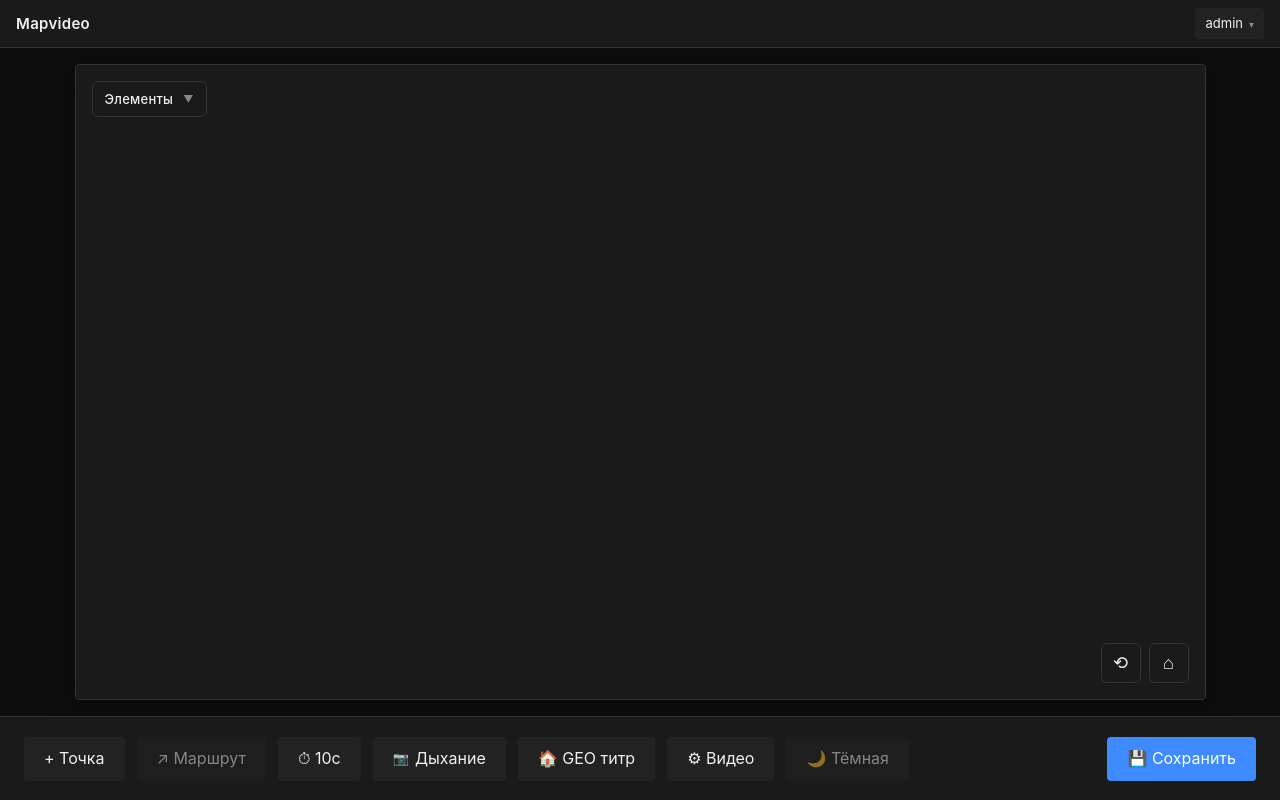
EditorPage › opens and closes the Add Point modal
The width and height of the screenshot is (1280, 800).
Click the button "+ Точка" at [74, 758], box [24,736,124,780]
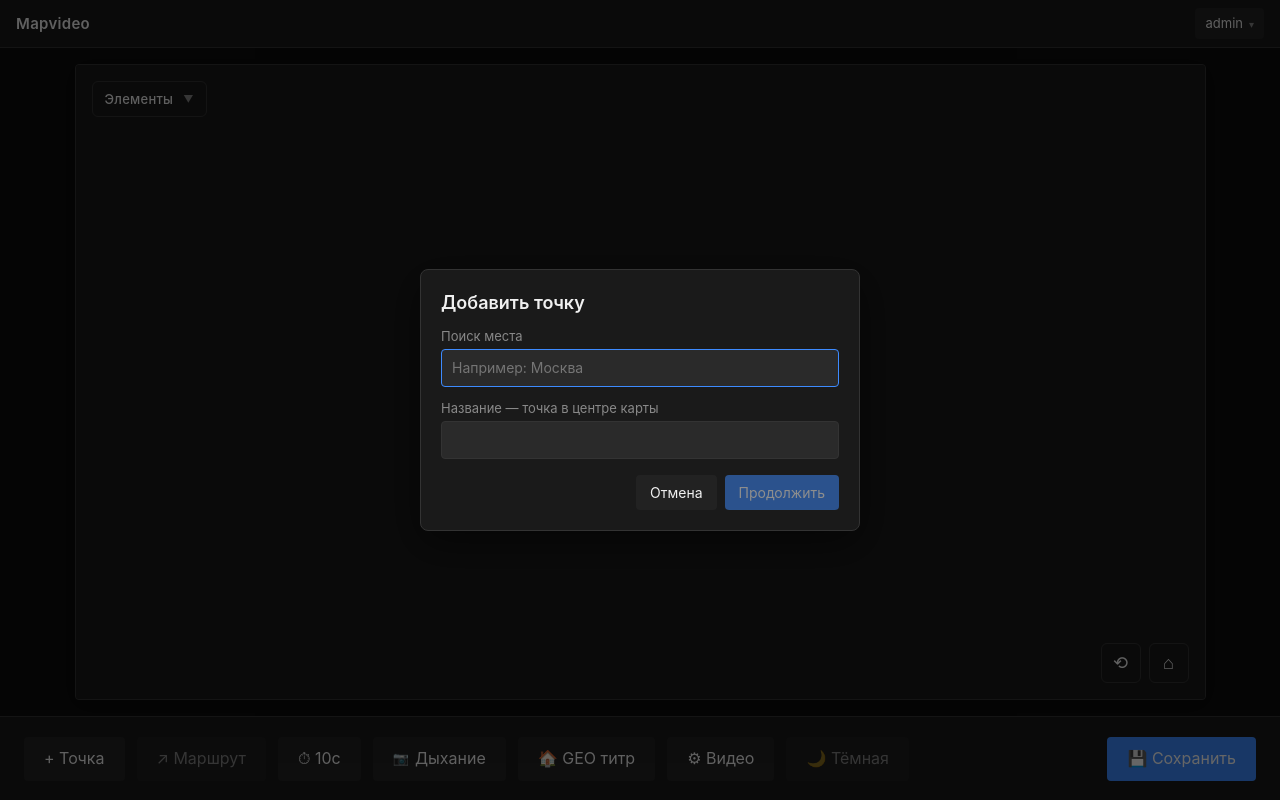
Expected: the dialog is shown, [420,269,860,531]
Expected: the heading "Добавить точку" is shown, [441,292,585,313]
Click the button "Отмена" at [676, 492], box [636,475,717,510]
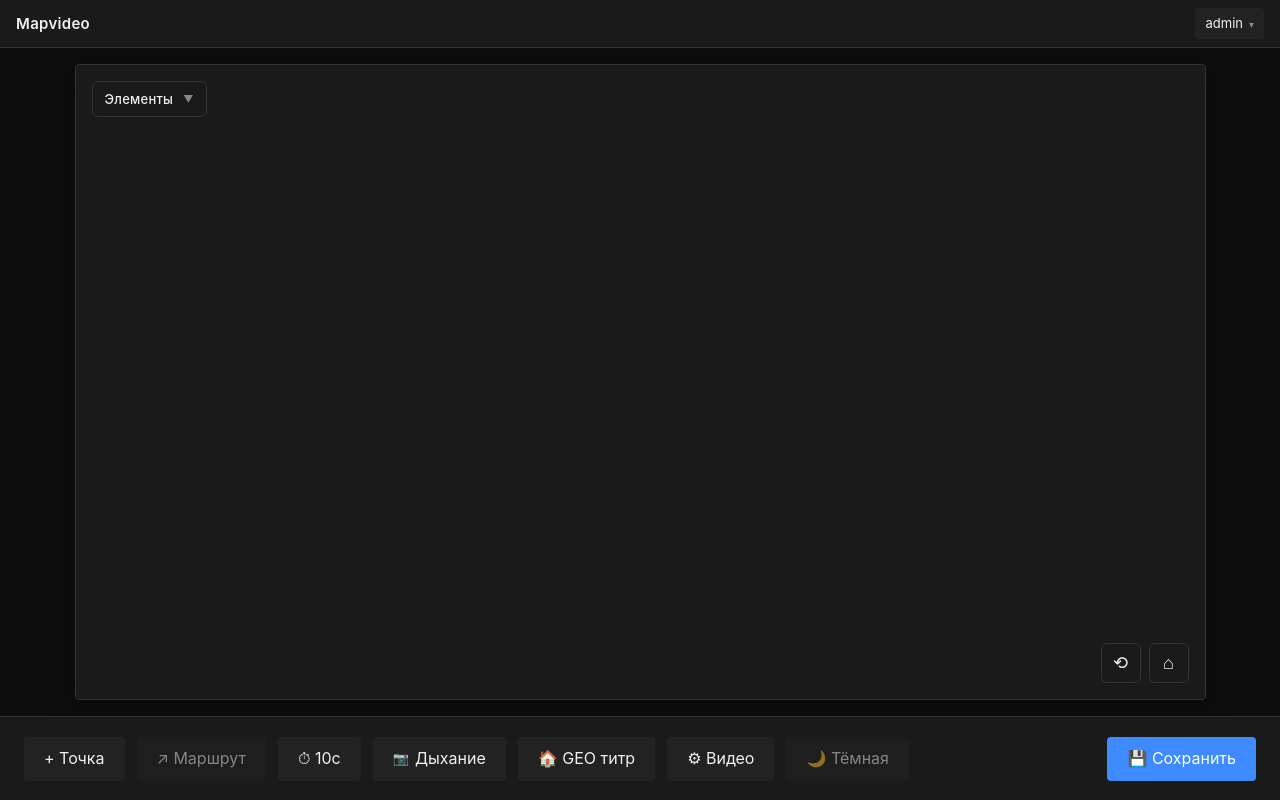
Expected: the dialog is gone
